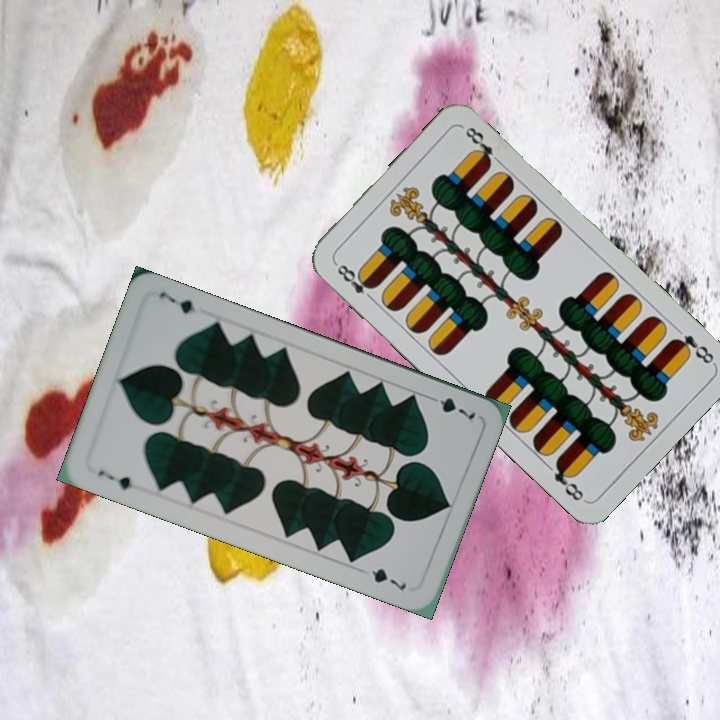E8: (330, 258, 378, 304), (668, 331, 718, 367)
G7: (423, 391, 479, 422), (93, 466, 136, 493)
